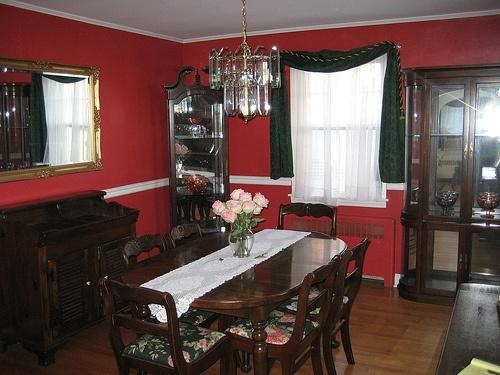chair: (224, 255, 338, 375), (97, 274, 231, 375), (277, 236, 371, 375)
diningtable: (122, 225, 347, 375)
